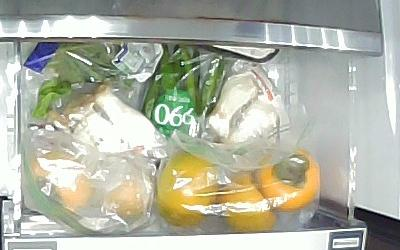persimmon_vinyl: (158, 148, 217, 227), (257, 148, 321, 213), (32, 150, 91, 213), (220, 171, 277, 234), (100, 180, 148, 222)
